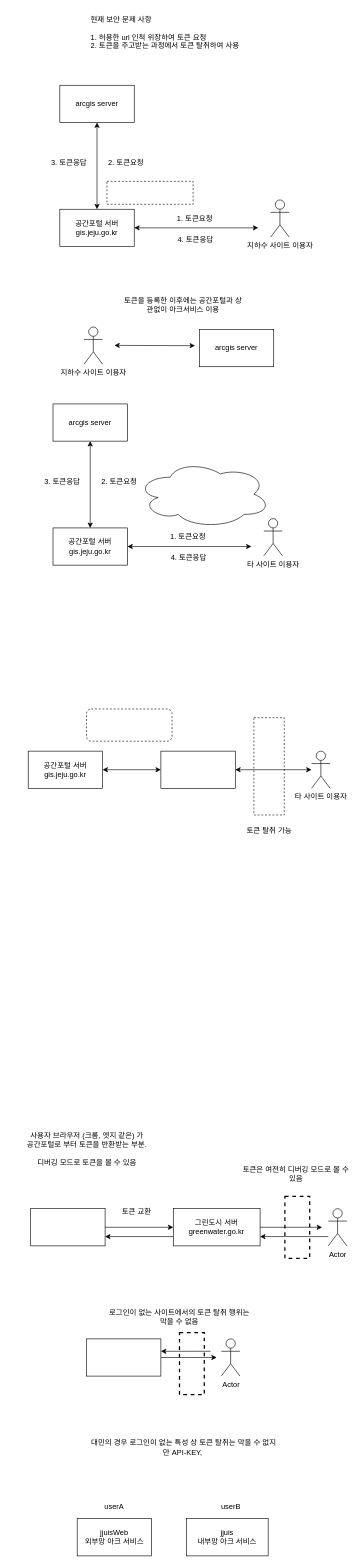
Some shapes in this 362 by 1567 pixel diagram are drawn without their labels. Here are the shapes that lost their labels. From the top down, the centre of each, then its label:
point (149, 192): 허용된 url 인지 확인
point (203, 494): 요청 헤더 url을 https://jwater.jeju.go.kr (지하수사이트 url) 로 조작
point (129, 724): API-KEY 와 허용된 IP인지 확인
point (197, 769): 지하수 서버 jwater.jeju.go.kr
point (67, 1227): 공간포털 gis.jeju.go.kr
point (123, 1357): 대민 공간포털 gis.jeju.go.kr
